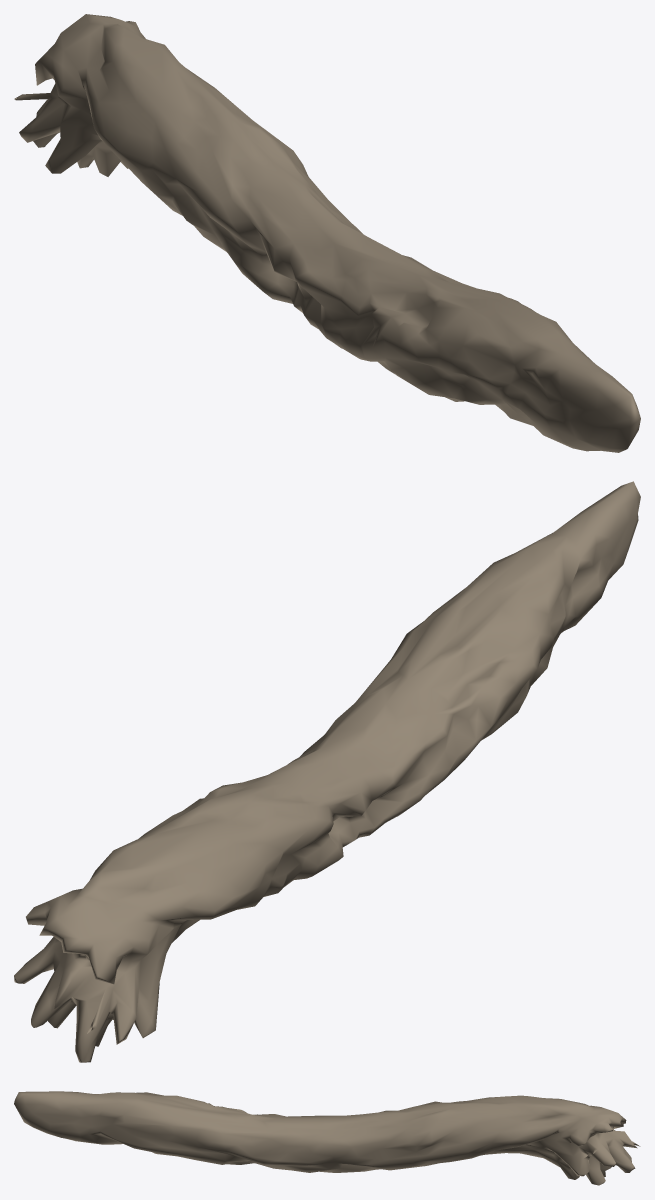
The model's file is midpoint.fbx.
The picture shows the model from 3 angles, top to bottom: view 1: azimuth 30°, elevation 25°; view 2: azimuth 150°, elevation 25°; view 3: azimuth 270°, elevation 25°; orthographic projection. The views are drawn at different scales.
Parts seen in each view (by area): view 1: Root_low; view 2: Root_low; view 3: Root_low.
Part boxes in pixels (<box>): Root_low: <box>14,14,640,452</box>; Root_low: <box>14,481,640,1062</box>; Root_low: <box>14,1091,640,1185</box>.
Size of the model in its own units: 0.2017 by 0.2544 by 1.62.
